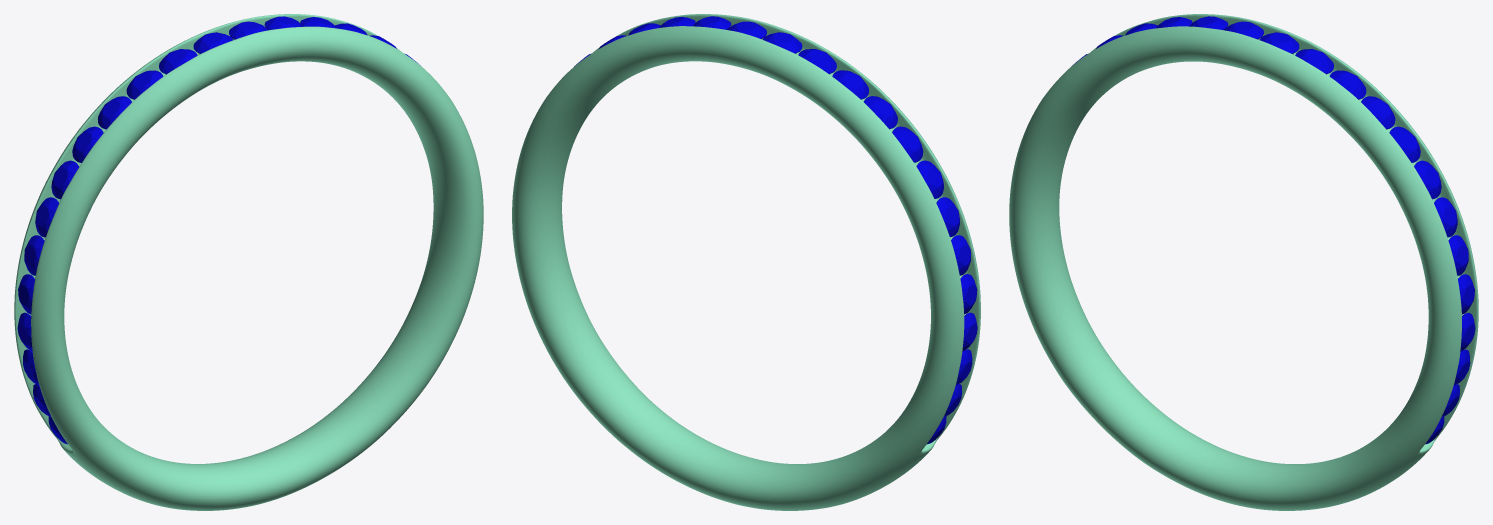
The picture shows the model from 3 angles, left to right: view 1: azimuth 30°, elevation 25°; view 2: azimuth 150°, elevation 25°; view 3: azimuth 330°, elevation 25°; orthographic projection.
Visible parts, largest first — view 1: Metal03, Diamond_Band.006, Diamond_Band.007, Diamond_Band.005, Diamond_Band.008, Diamond_Band.004, Diamond_Band, Diamond_Band.009; view 2: Metal03, Diamond_Band.006, Diamond_Band.007, Diamond_Band.005, Diamond_Band.004, Diamond_Band.008, Diamond_Band.009, Diamond_Band; view 3: Metal03, Diamond_Band.020, Diamond_Band.021, Diamond_Band.019, Diamond_Band.018, Diamond_Band.022, Diamond_Band.023, Diamond_Band.017.
Boxes of the visible parts, left/top/right/bottom form: Metal03: left=14, top=14, right=483, bottom=510; Diamond_Band.006: left=72, top=126, right=103, bottom=162; Diamond_Band.007: left=51, top=160, right=78, bottom=199; Diamond_Band.005: left=98, top=96, right=131, bottom=129; Diamond_Band.008: left=35, top=197, right=58, bottom=237; Diamond_Band.004: left=126, top=70, right=163, bottom=99; Diamond_Band: left=159, top=49, right=197, bottom=74; Diamond_Band.009: left=24, top=235, right=44, bottom=275; Metal03: left=512, top=14, right=980, bottom=510; Diamond_Band.006: left=892, top=126, right=923, bottom=162; Diamond_Band.007: left=916, top=160, right=943, bottom=198; Diamond_Band.005: left=864, top=96, right=897, bottom=129; Diamond_Band.004: left=832, top=70, right=868, bottom=99; Diamond_Band.008: left=936, top=197, right=959, bottom=236; Diamond_Band.009: left=951, top=235, right=970, bottom=275; Diamond_Band: left=798, top=49, right=836, bottom=73; Metal03: left=1009, top=14, right=1478, bottom=510; Diamond_Band.020: left=1389, top=126, right=1420, bottom=162; Diamond_Band.021: left=1361, top=96, right=1395, bottom=129; Diamond_Band.019: left=1414, top=160, right=1441, bottom=199; Diamond_Band.018: left=1434, top=197, right=1457, bottom=237; Diamond_Band.022: left=1329, top=70, right=1366, bottom=99; Diamond_Band.023: left=1295, top=49, right=1333, bottom=74; Diamond_Band.017: left=1448, top=235, right=1468, bottom=275.
Size of the model in its own units: 20.64 by 20.74 by 2.5.
